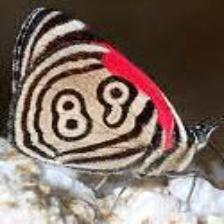butterfly: (9, 9, 216, 176)
